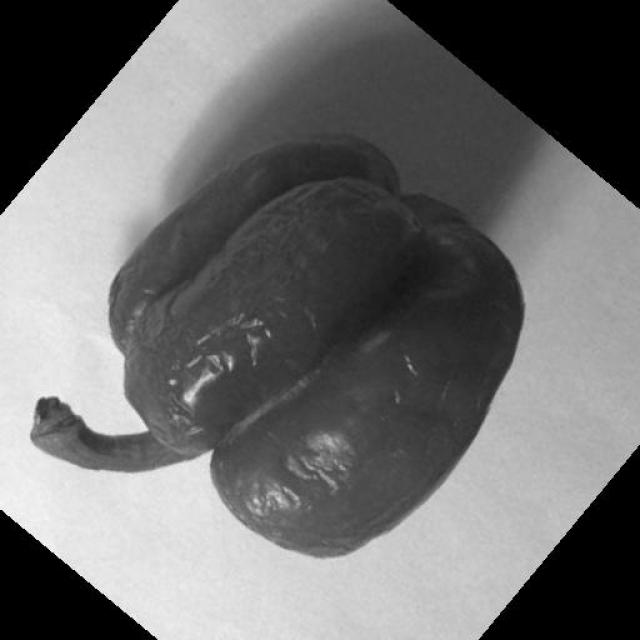Stale_Capsicum: (115, 151, 525, 510)
